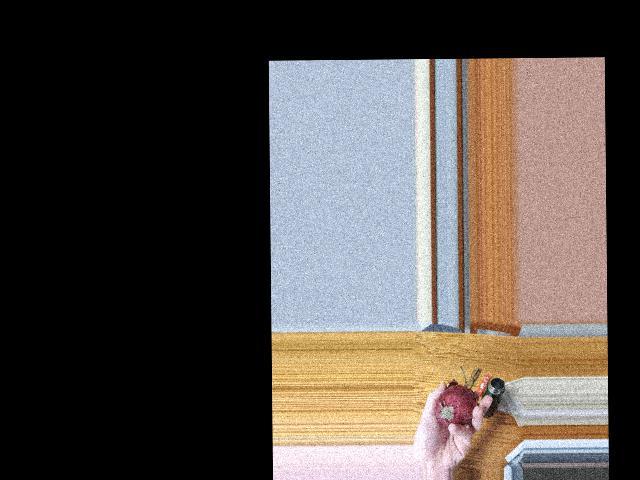onion: (431, 387, 474, 430)
